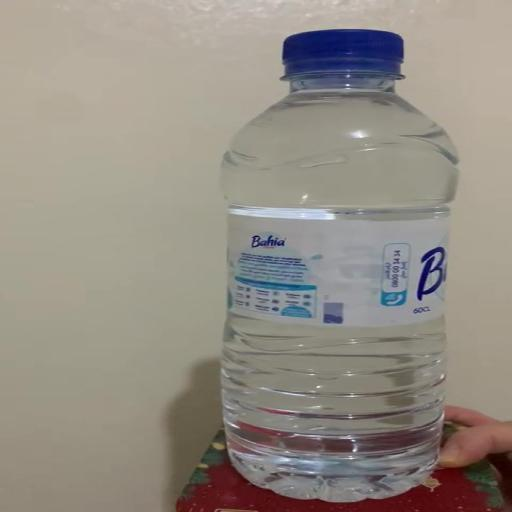bouteille conformite: (206, 30, 469, 512)
